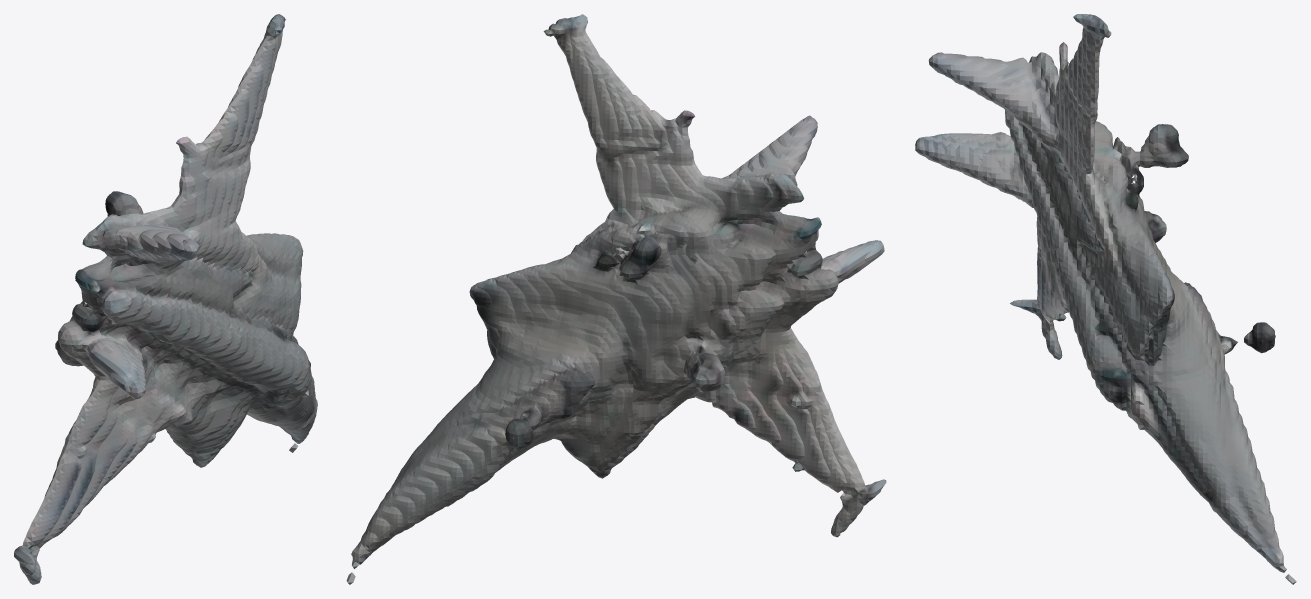
The model's file is 000007_aircraft_jet_airplane.glb.
3 views of the same model, side by side, from view 1: azimuth 30°, elevation 25°; view 2: azimuth 150°, elevation 25°; view 3: azimuth 270°, elevation 25° (orthographic). The views are drawn at different scales.
Visible parts, largest first — view 1: world; view 2: world; view 3: world.
Part boxes in pixels (bbox=[...]): world: bbox=[14, 14, 317, 584]; world: bbox=[346, 14, 886, 584]; world: bbox=[915, 14, 1296, 584].
Size of the model in its own units: 0.6914 by 0.8579 by 0.5788.
